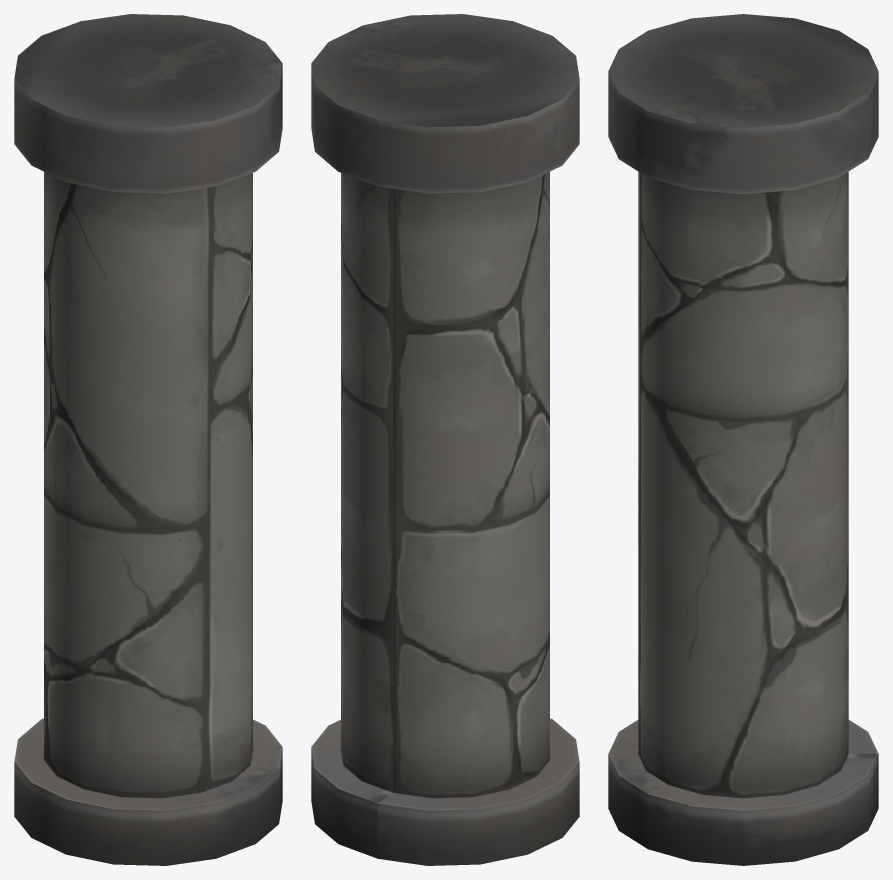
File: SM_pillarHuge.fbx
3 views of the same model, side by side, from view 1: azimuth 30°, elevation 25°; view 2: azimuth 150°, elevation 25°; view 3: azimuth 270°, elevation 25° (orthographic).
Visible parts, largest first — view 1: SM_pillarHuge; view 2: SM_pillarHuge; view 3: SM_pillarHuge.
Boxes of the visible parts, box(x1,y1,x2,y2) form: SM_pillarHuge: box(14, 14, 282, 865); SM_pillarHuge: box(311, 14, 579, 865); SM_pillarHuge: box(608, 14, 878, 865).
Size of the model in its own units: 1.86 by 5.61 by 1.86.
